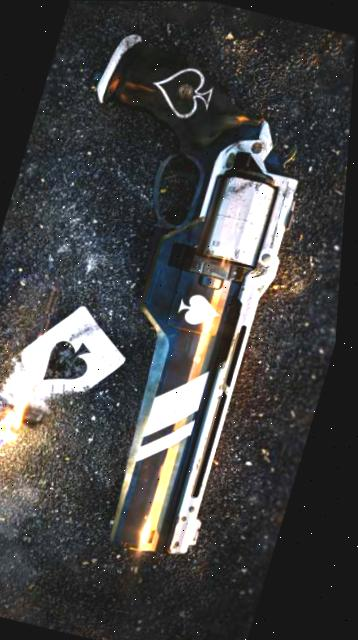pistol: (0, 29, 332, 559)
